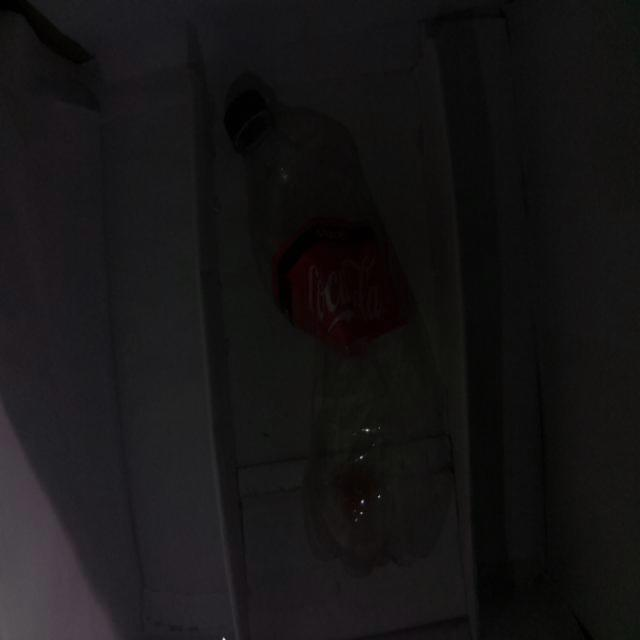bottle: (224, 89, 453, 577)
